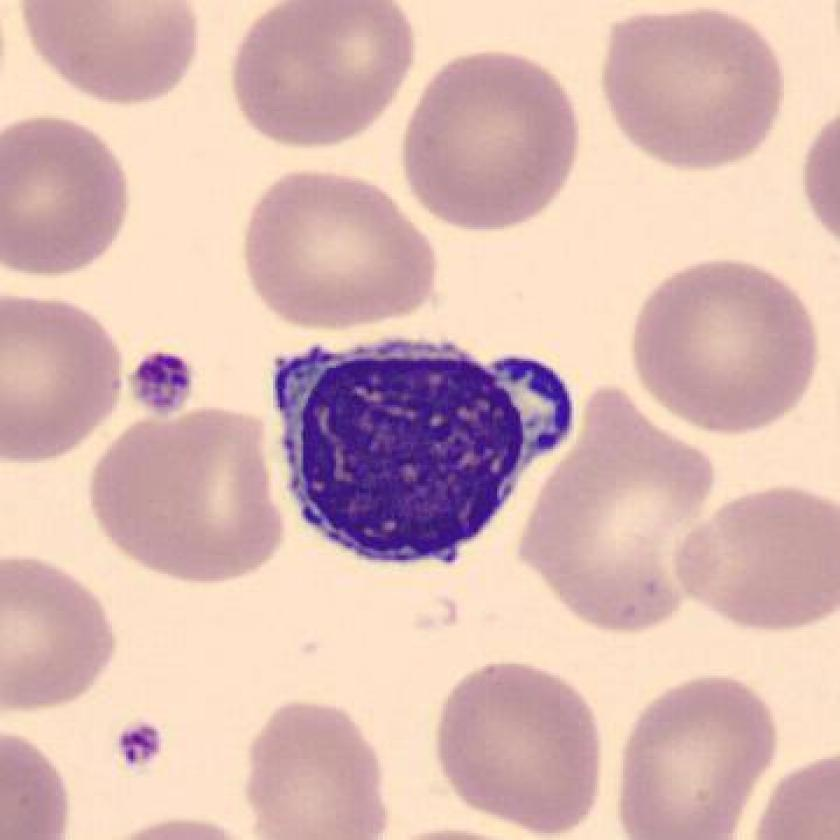lymphocyte: (255, 323, 587, 580)
